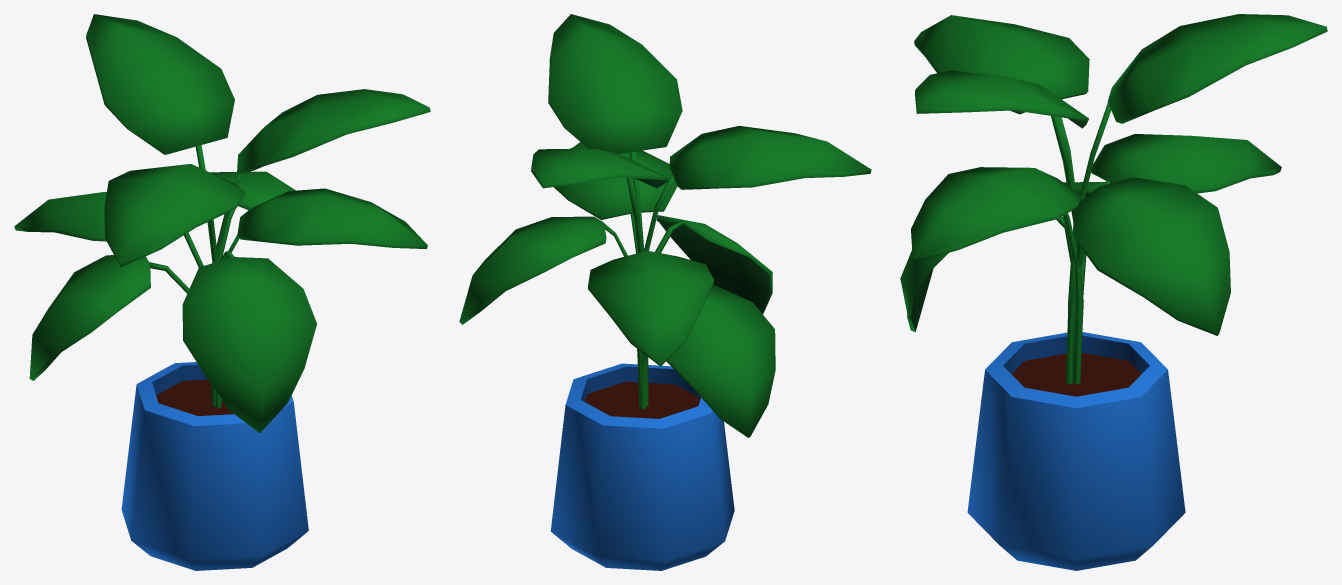
File: PlantaGrande.fbx
3 renders of one model, left to right at view 1: azimuth 30°, elevation 25°; view 2: azimuth 150°, elevation 25°; view 3: azimuth 270°, elevation 25°, orthographic. The views are drawn at different scales.
Parts seen in each view (by area): view 1: PlantaGrande; view 2: PlantaGrande; view 3: PlantaGrande.
Part boxes in pixels (bbox=[...]): PlantaGrande: bbox=[14, 14, 430, 570]; PlantaGrande: bbox=[459, 14, 871, 570]; PlantaGrande: bbox=[900, 14, 1327, 570].
Size of the model in its own units: 67.32 by 94.68 by 71.84.
